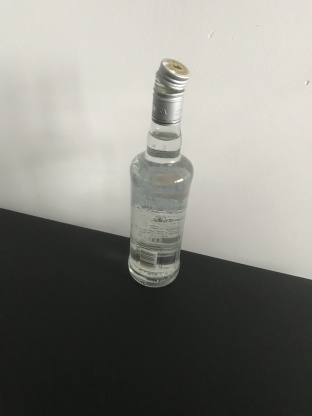nakretka: (150, 56, 191, 126)
